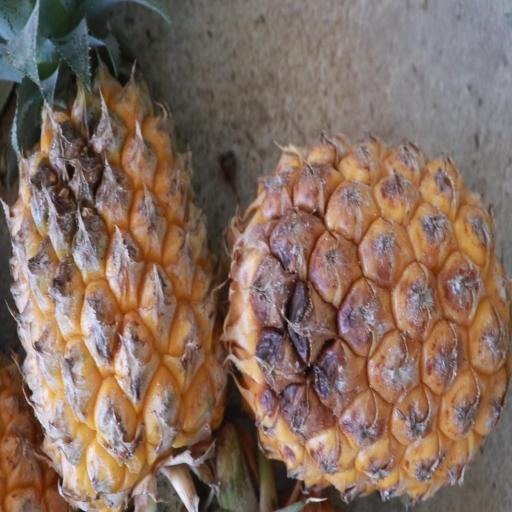Pineapple - v8 v1: (4, 4, 224, 512), (216, 143, 511, 512)
